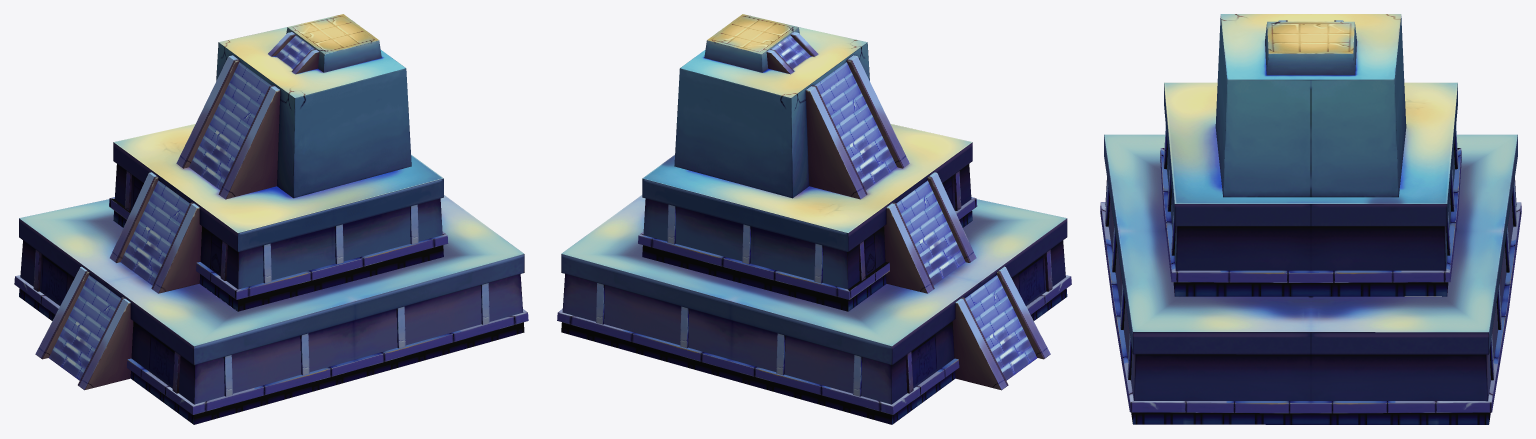
The model's file is yecha2.FBX.
3 views of the same model, side by side, from view 1: azimuth 30°, elevation 25°; view 2: azimuth 150°, elevation 25°; view 3: azimuth 270°, elevation 25° (orthographic). The views are drawn at different scales.
Visible parts, largest first — view 1: yechajitan2; view 2: yechajitan2; view 3: yechajitan2.
Part boxes in pixels (x1,y1,x2,y2): yechajitan2: (14, 14, 528, 424); yechajitan2: (557, 14, 1071, 424); yechajitan2: (1100, 14, 1521, 424).
Bounding box in the file's own units: 18.04 × 11.91 × 14.18.
